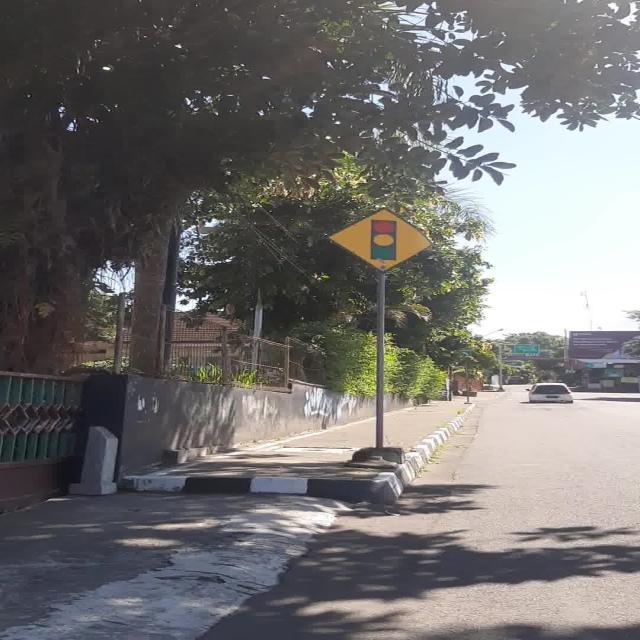Lampu Lalu Lintas: (327, 207, 432, 273)
